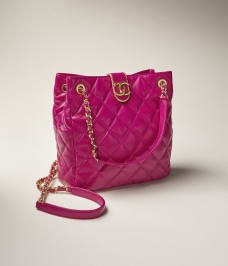channel: (51, 59, 179, 194), (76, 86, 104, 162), (108, 78, 138, 106)
